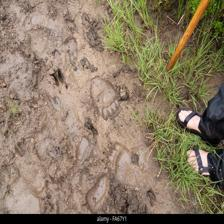bear: (85, 77, 126, 119)
